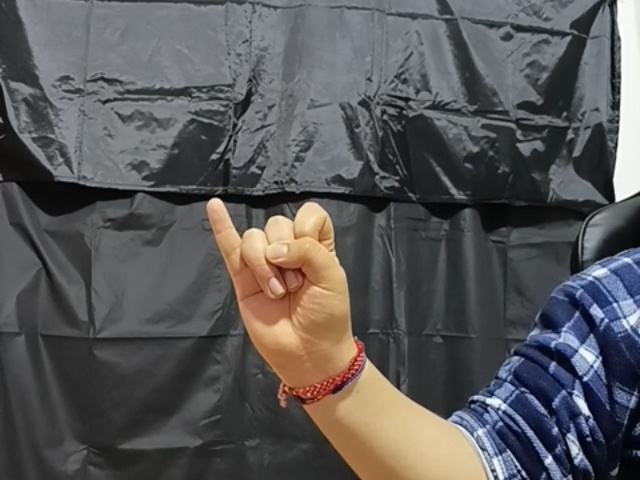I: (202, 194, 383, 362)
